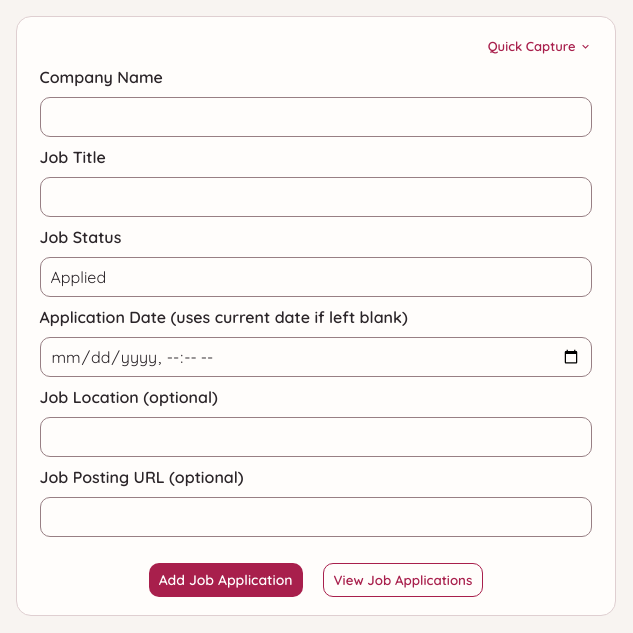
Test: User add application flow › successfully adds an application and a notification message is shown
Type "ABC Pte Ltd" into the field labelled "Company Name". click: (316, 117)
box: [40,97,592,137]
Type "Cleaner" into the field labelled "Job Title". click: (316, 197)
box: [40,177,592,217]
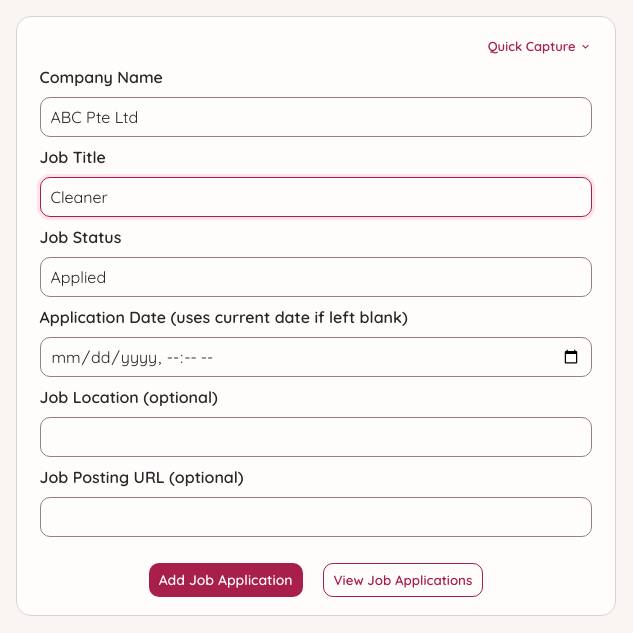
Select "Interview" in the dropdown labelled "Job Status". click: (316, 277)
box: [40,257,592,297]
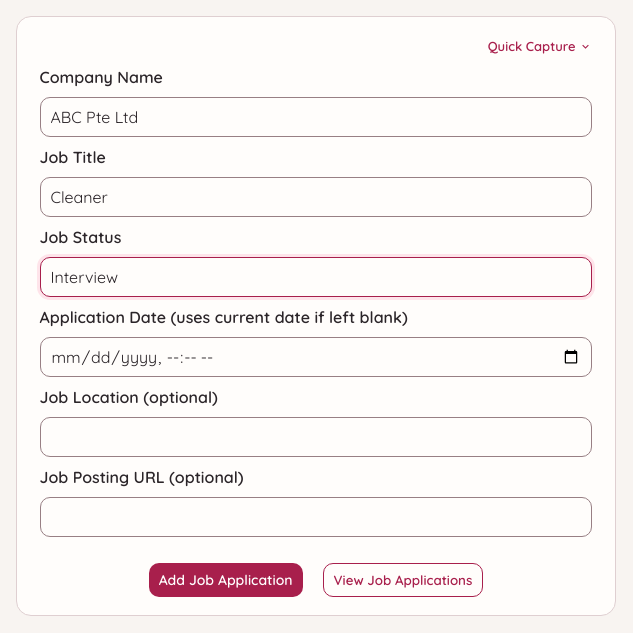
Type "2025-08-03T14:30" into the field labelled "Application Date (uses current date if left blank)". click: (316, 357)
box: [40,337,592,377]
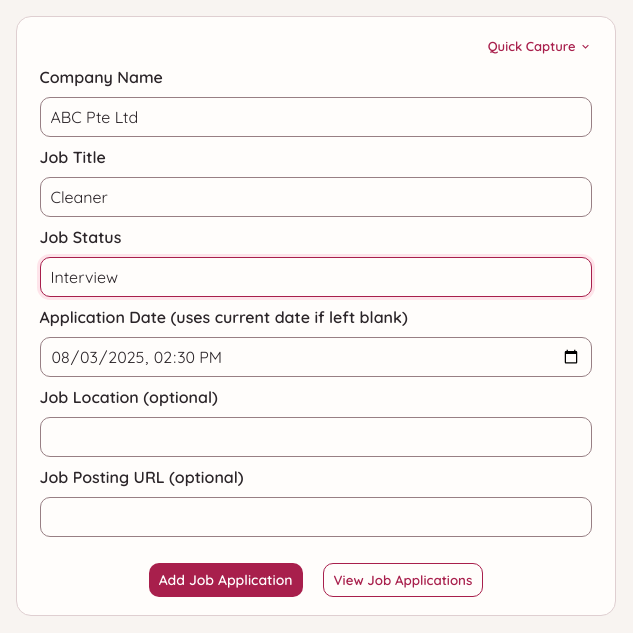
Type "Singapore" into the field labelled "Job Location (optional)". click: (316, 437)
box: [40,417,592,457]
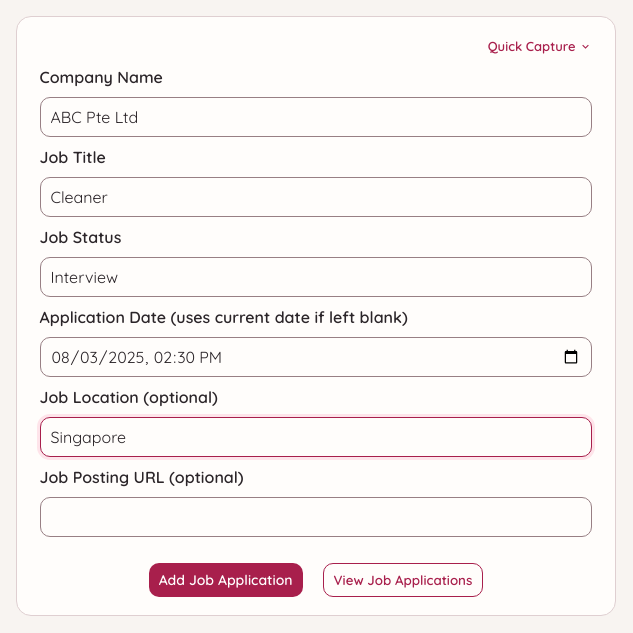
Type "https://example.com/jobs/1" into the field labelled "Job Posting URL (optional)". click: (316, 517)
box: [40,497,592,537]
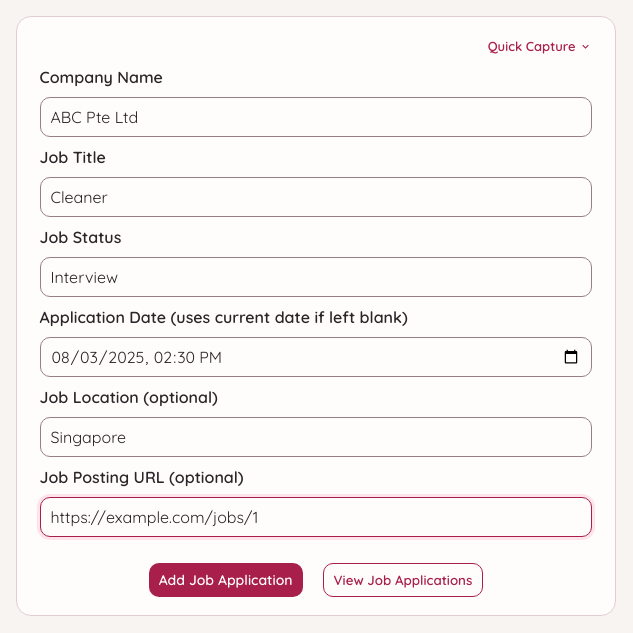
Click the button "Add Job Application". click: (226, 580)
box: [149,563,303,597]
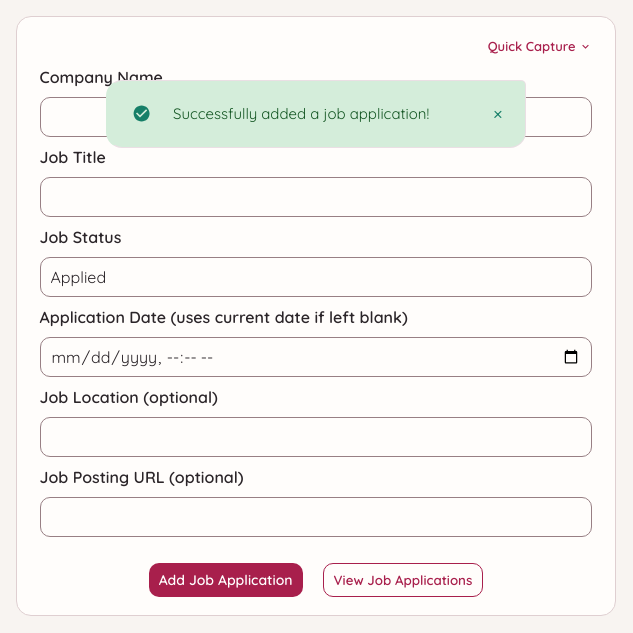
Now the message "Successfully added a job application! ×" is shown, box [106,80,526,148]
Now the field labelled "Company Name" is empty, box [40,97,592,137]
Now the field labelled "Job Title" is empty, box [40,177,592,217]
